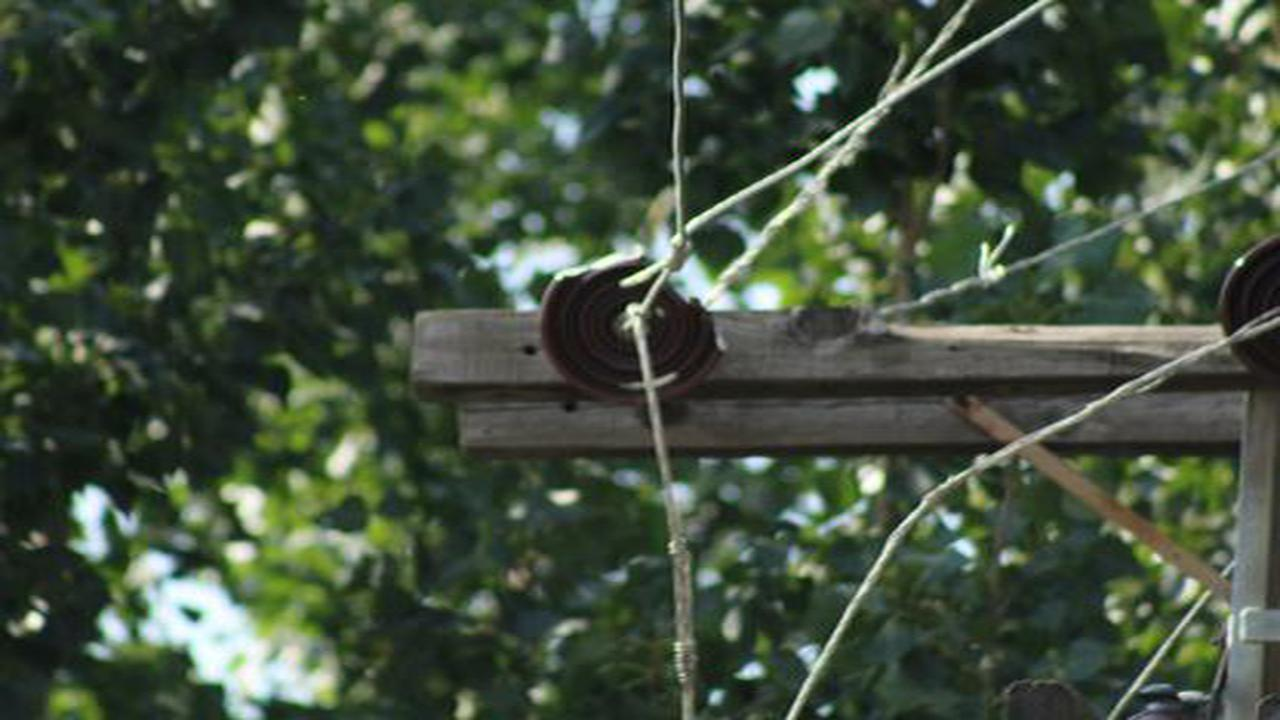defect_disc: (538, 245, 735, 410)
